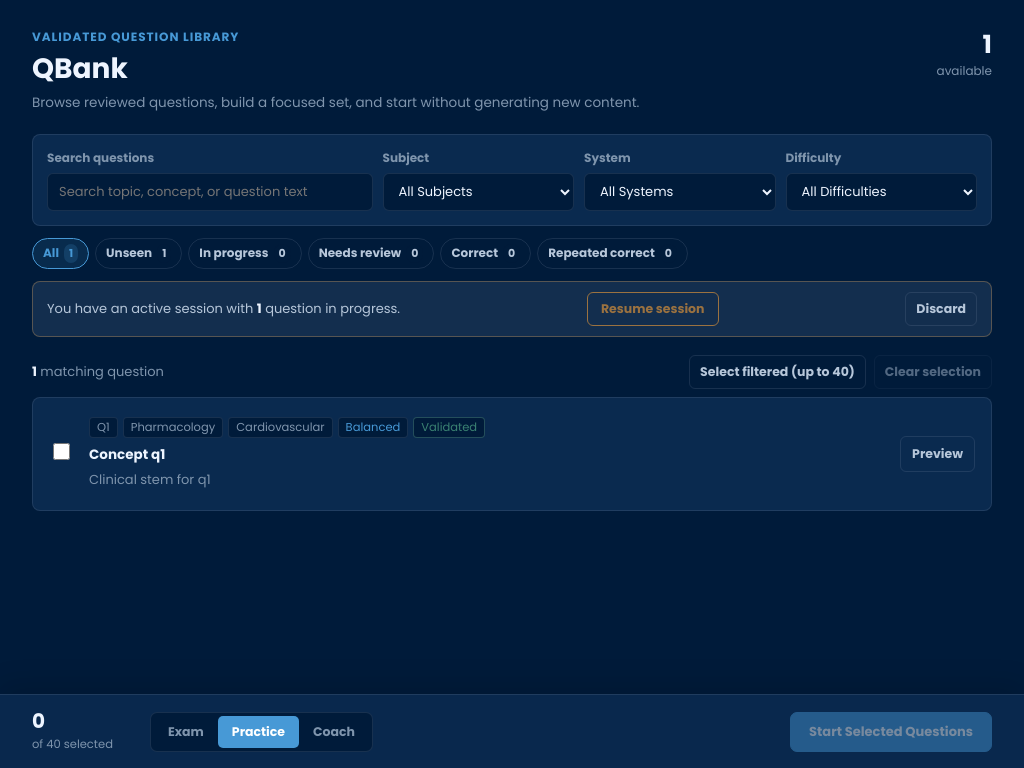
Test case: QBankPage — backend-driven catalog › shows a visible error and does not retry silently when a backend-driven resume fails
The width and height of the screenshot is (1024, 768).
Click the button "Resume session". click: (653, 308)
box: [587,292,718,326]
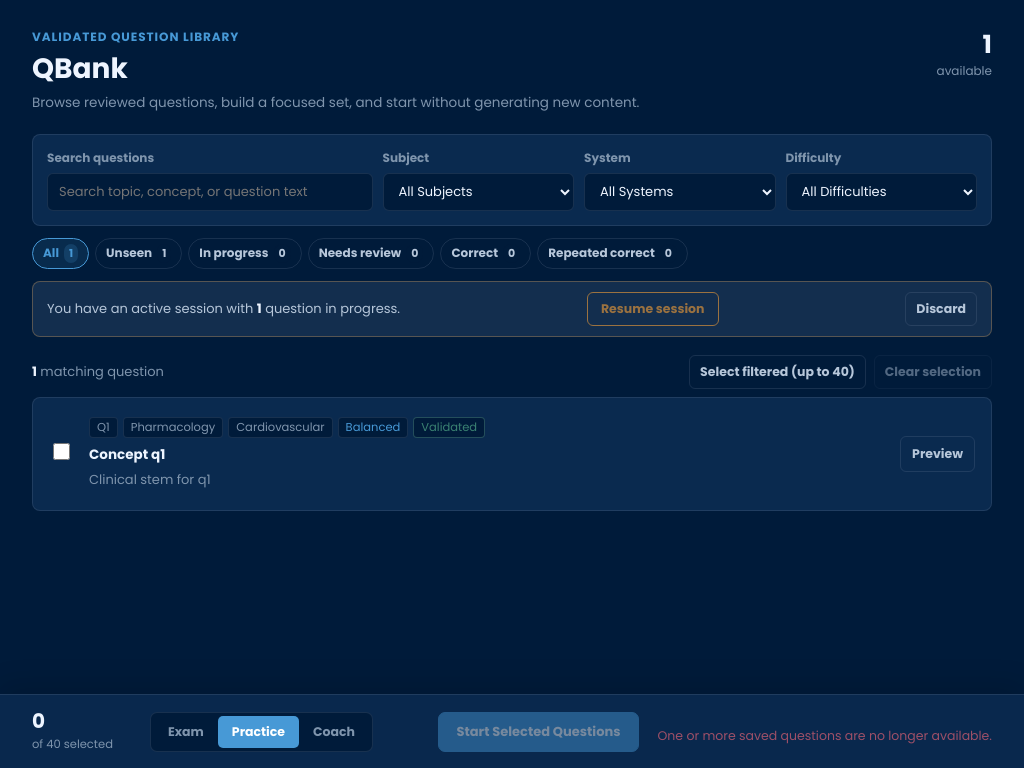
Expected: the message "One or more saved questions are no longer available." is shown, [658,726,992,744]
